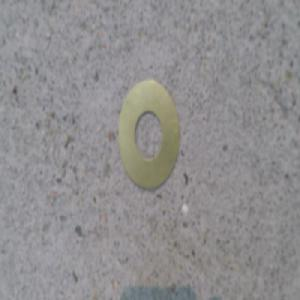Washer: (117, 76, 181, 190)
